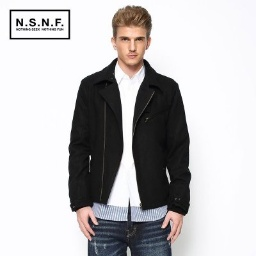face: (111, 6, 154, 67)
